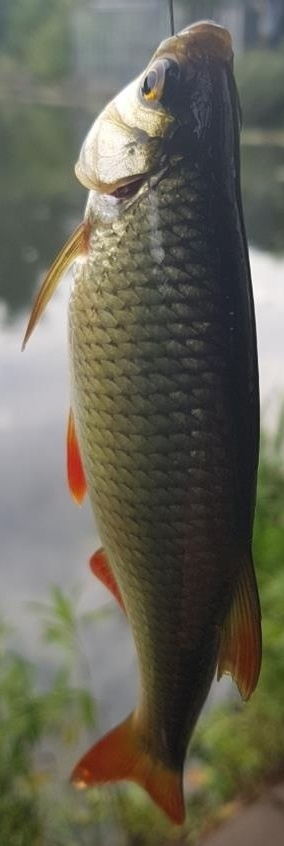Scardinius erythrophthalmus: (20, 20, 264, 826)
